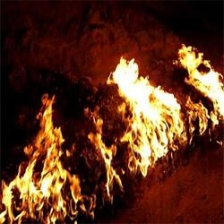fire: (2, 46, 224, 222)
